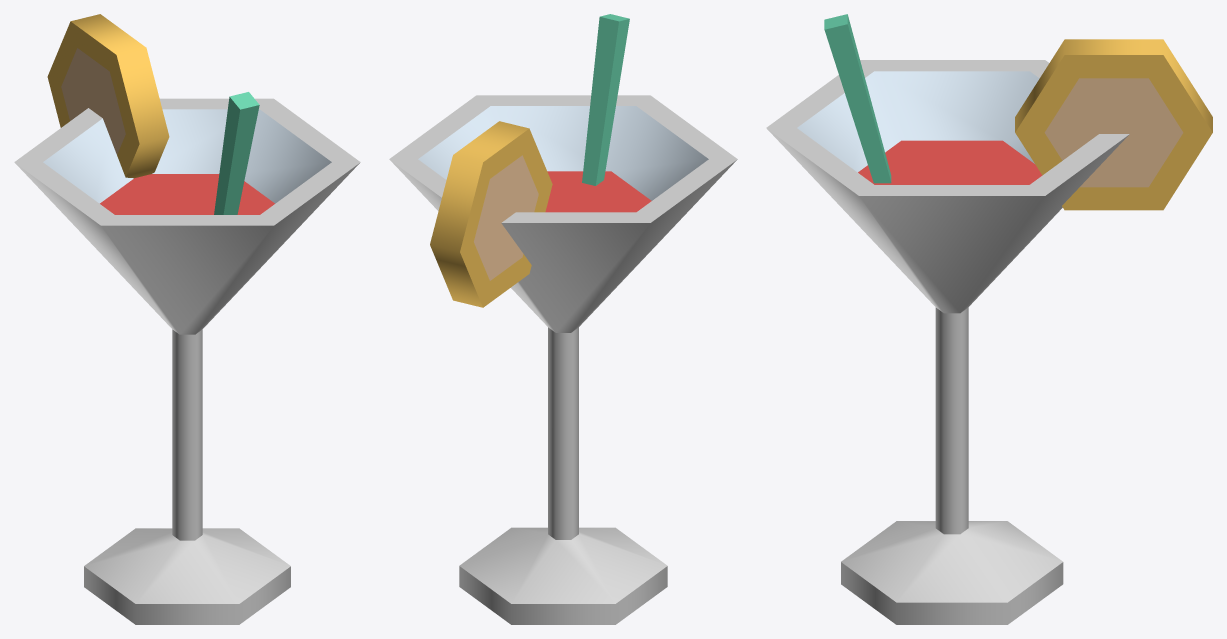
The model's file is Cocktail.glb.
3 renders of one model, left to right at view 1: azimuth 30°, elevation 25°; view 2: azimuth 150°, elevation 25°; view 3: azimuth 270°, elevation 25°, orthographic. The views are drawn at different scales.
Visible parts, largest first — view 1: cocktail; view 2: cocktail; view 3: cocktail.
Boxes of the visible parts, x1,y1,x2,y2 form: cocktail: (14, 14, 360, 624); cocktail: (389, 14, 737, 624); cocktail: (766, 14, 1212, 624).
Bounding box in the file's own units: 0.2607 × 0.5059 × 0.3615.
